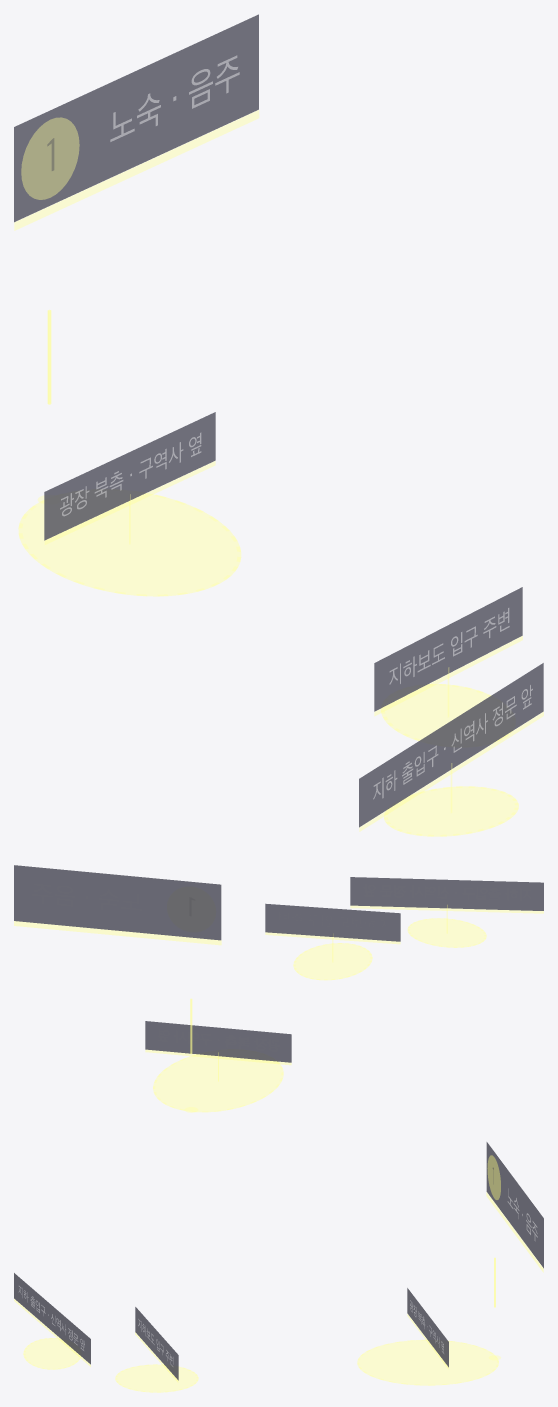
3 renders of one model, top to bottom at view 1: azimuth 30°, elevation 25°; view 2: azimuth 150°, elevation 25°; view 3: azimuth 270°, elevation 25°, orthographic. The views are drawn at different scales.
Visible parts, largest first — view 1: P1_Plate, P1_Heat_0, PS_1_2_Plate, PS_1_0_Plate, PS_1_1_Plate, P1_Heat_2, P1_Heat_1, P1_NumDisc, P1_Accent, P1_Title; view 2: P1_Plate, P1_Heat_0, PS_1_2_Plate, PS_1_0_Plate, PS_1_1_Plate, P1_Heat_1, P1_Heat_2, P1_Accent, PS_1_2_Acc, PS_1_0_Acc, PS_1_1_Acc; view 3: P1_Heat_0, P1_Plate, PS_1_2_Plate, P1_Heat_1, P1_Heat_2, PS_1_1_Plate, PS_1_0_Plate, P1_NumDisc.
Boxes of the visible parts, x1,y1,x2,y2 form: P1_Plate: (14, 14, 258, 222); P1_Heat_0: (18, 493, 241, 596); PS_1_2_Plate: (359, 663, 543, 827); PS_1_0_Plate: (44, 412, 215, 540); PS_1_1_Plate: (374, 587, 522, 711); P1_Heat_2: (384, 786, 518, 836); P1_Heat_1: (381, 684, 511, 742); P1_NumDisc: (21, 117, 79, 199); P1_Accent: (14, 110, 258, 230); P1_Title: (110, 55, 239, 141); P1_Plate: (14, 865, 221, 940); P1_Heat_0: (153, 1054, 283, 1112); PS_1_2_Plate: (350, 877, 543, 910); PS_1_0_Plate: (145, 1021, 291, 1062); PS_1_1_Plate: (265, 903, 400, 941); P1_Heat_1: (293, 943, 372, 980); P1_Heat_2: (407, 918, 486, 947); P1_Accent: (14, 921, 221, 944); PS_1_2_Acc: (350, 906, 543, 913); PS_1_0_Acc: (145, 1050, 291, 1064); PS_1_1_Acc: (265, 932, 400, 943); P1_Heat_0: (357, 1340, 498, 1385); P1_Plate: (486, 1142, 543, 1268); PS_1_2_Plate: (14, 1273, 90, 1364); P1_Heat_1: (115, 1364, 198, 1392); P1_Heat_2: (23, 1338, 80, 1369); PS_1_1_Plate: (135, 1307, 178, 1380); PS_1_0_Plate: (407, 1288, 448, 1367); P1_NumDisc: (487, 1155, 500, 1199).
Size of the model in its own units: 117 by 109 by 254.
